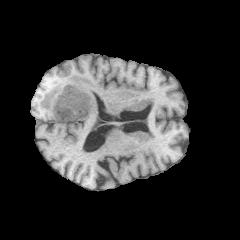glioma: (39, 76, 97, 122)
